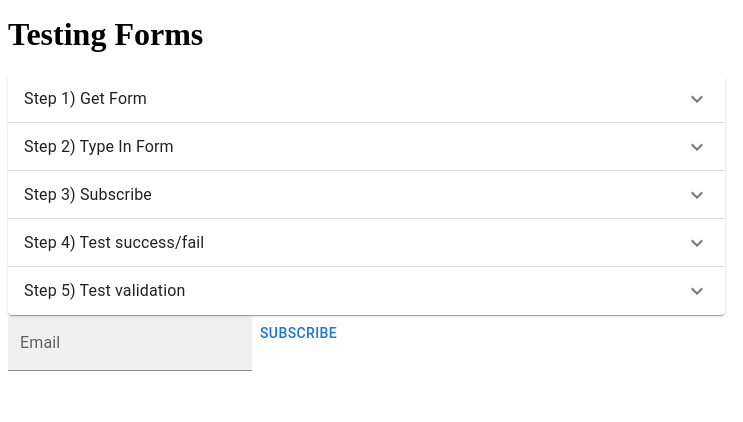
Test: forms test › Test subscrible form
This screenshot has width=743, height=422.
Check: the heading "Testing Forms" is shown, box [8, 16, 203, 52]
Type "test@test.com" into the field labelled "Email".
click(130, 343); type("test@test.com")  # box [8, 315, 252, 371]
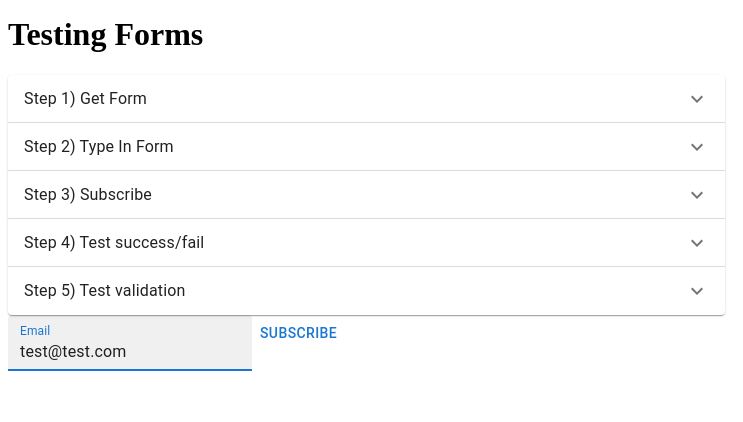
Check: the text "successfully subbed: test@test.com!" is not shown
Click the button with test id "subscribe-button".
click(299, 334)  # box [252, 315, 345, 352]
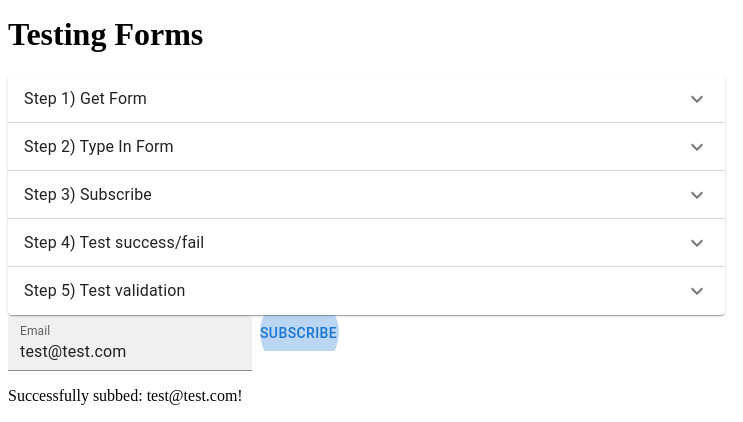
Check: the text "Successfully subbed: test@test.com!" is shown, box [8, 387, 243, 404]
